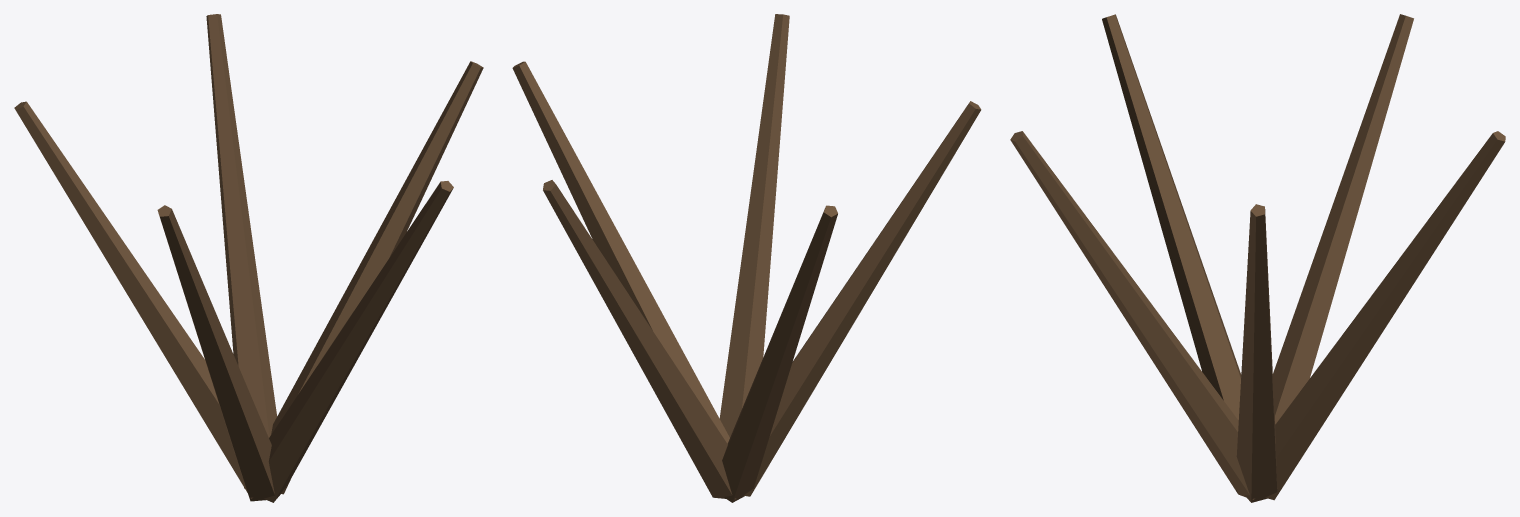
The model's file is dead-shrub.glb.
3 renders of one model, left to right at view 1: azimuth 30°, elevation 25°; view 2: azimuth 150°, elevation 25°; view 3: azimuth 270°, elevation 25°, orthographic. The views are drawn at different scales.
Visible parts, largest first — view 1: dead-shrub__body; view 2: dead-shrub__body; view 3: dead-shrub__body.
Part boxes in pixels (x1,y1,x2,y2): dead-shrub__body: (14,14,483,502); dead-shrub__body: (512,14,981,502); dead-shrub__body: (1010,14,1505,502).
Bounding box in the file's own units: 0.7078 × 0.6531 × 0.742.
